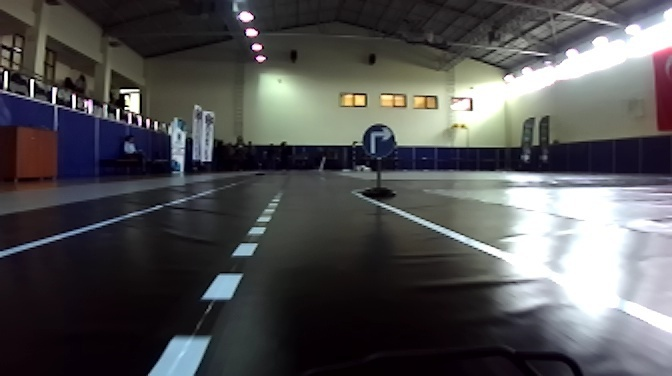saga_donus: (359, 124, 396, 159)
